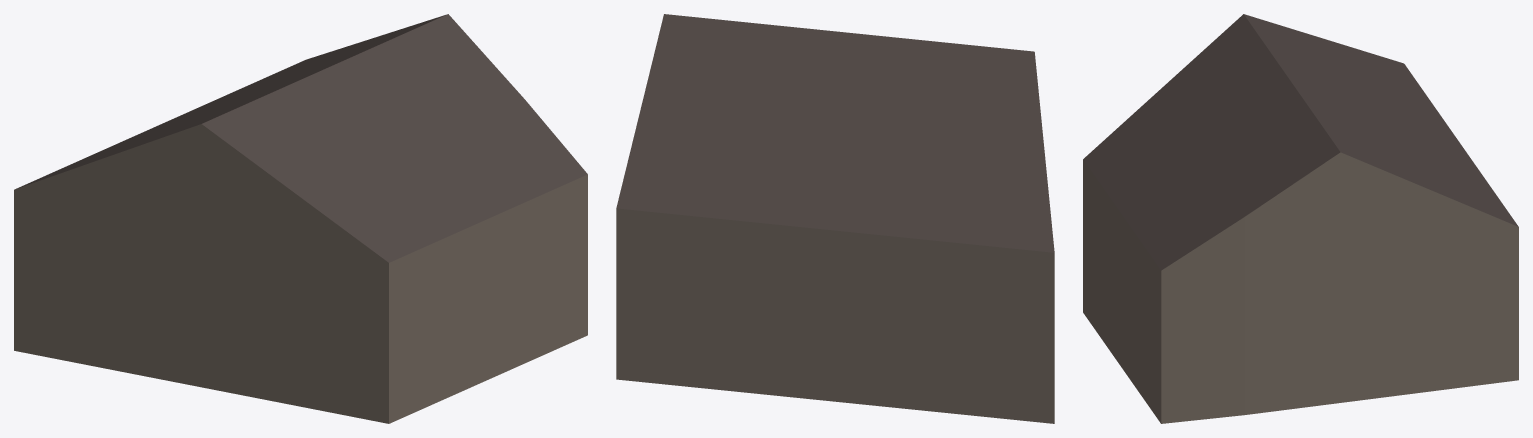
3 renders of one model, left to right at view 1: azimuth 30°, elevation 25°; view 2: azimuth 150°, elevation 25°; view 3: azimuth 270°, elevation 25°, orthographic. The views are drawn at different scales.
Parts seen in each view (by area): view 1: HP-w1198664283; view 2: HP-w1198664283; view 3: HP-w1198664283.
Part boxes in pixels (x1=…): HP-w1198664283: x1=14, y1=14, x2=587, y2=423; HP-w1198664283: x1=616, y1=14, x2=1054, y2=423; HP-w1198664283: x1=1083, y1=14, x2=1518, y2=423.
Size of the model in its own units: 17.4 by 9.81 by 15.47.
